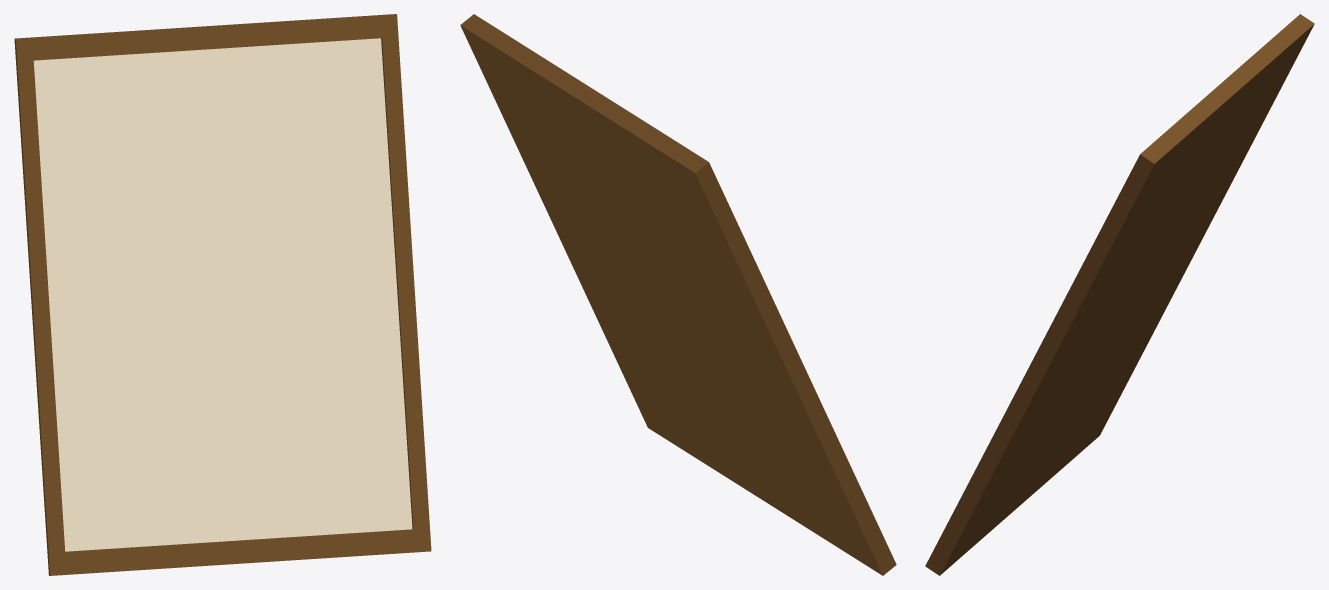
File: MemorialRoom_Picture_frame_medium.fbx
The picture shows the model from 3 angles, left to right: view 1: azimuth 30°, elevation 25°; view 2: azimuth 150°, elevation 25°; view 3: azimuth 270°, elevation 25°; orthographic projection. The views are drawn at different scales.
Visible parts, largest first — view 1: Picture.007; view 2: Picture.007; view 3: Picture.007.
Part boxes in pixels (bbox=[...]): Picture.007: bbox=[14, 14, 431, 575]; Picture.007: bbox=[460, 14, 896, 575]; Picture.007: bbox=[925, 14, 1314, 575].
Bounding box in the file's own units: 590 × 680 × 519.
